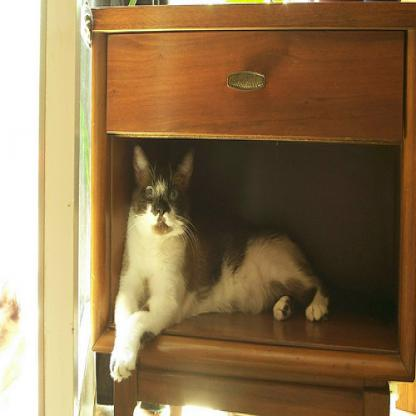cat: (107, 144, 333, 384)
